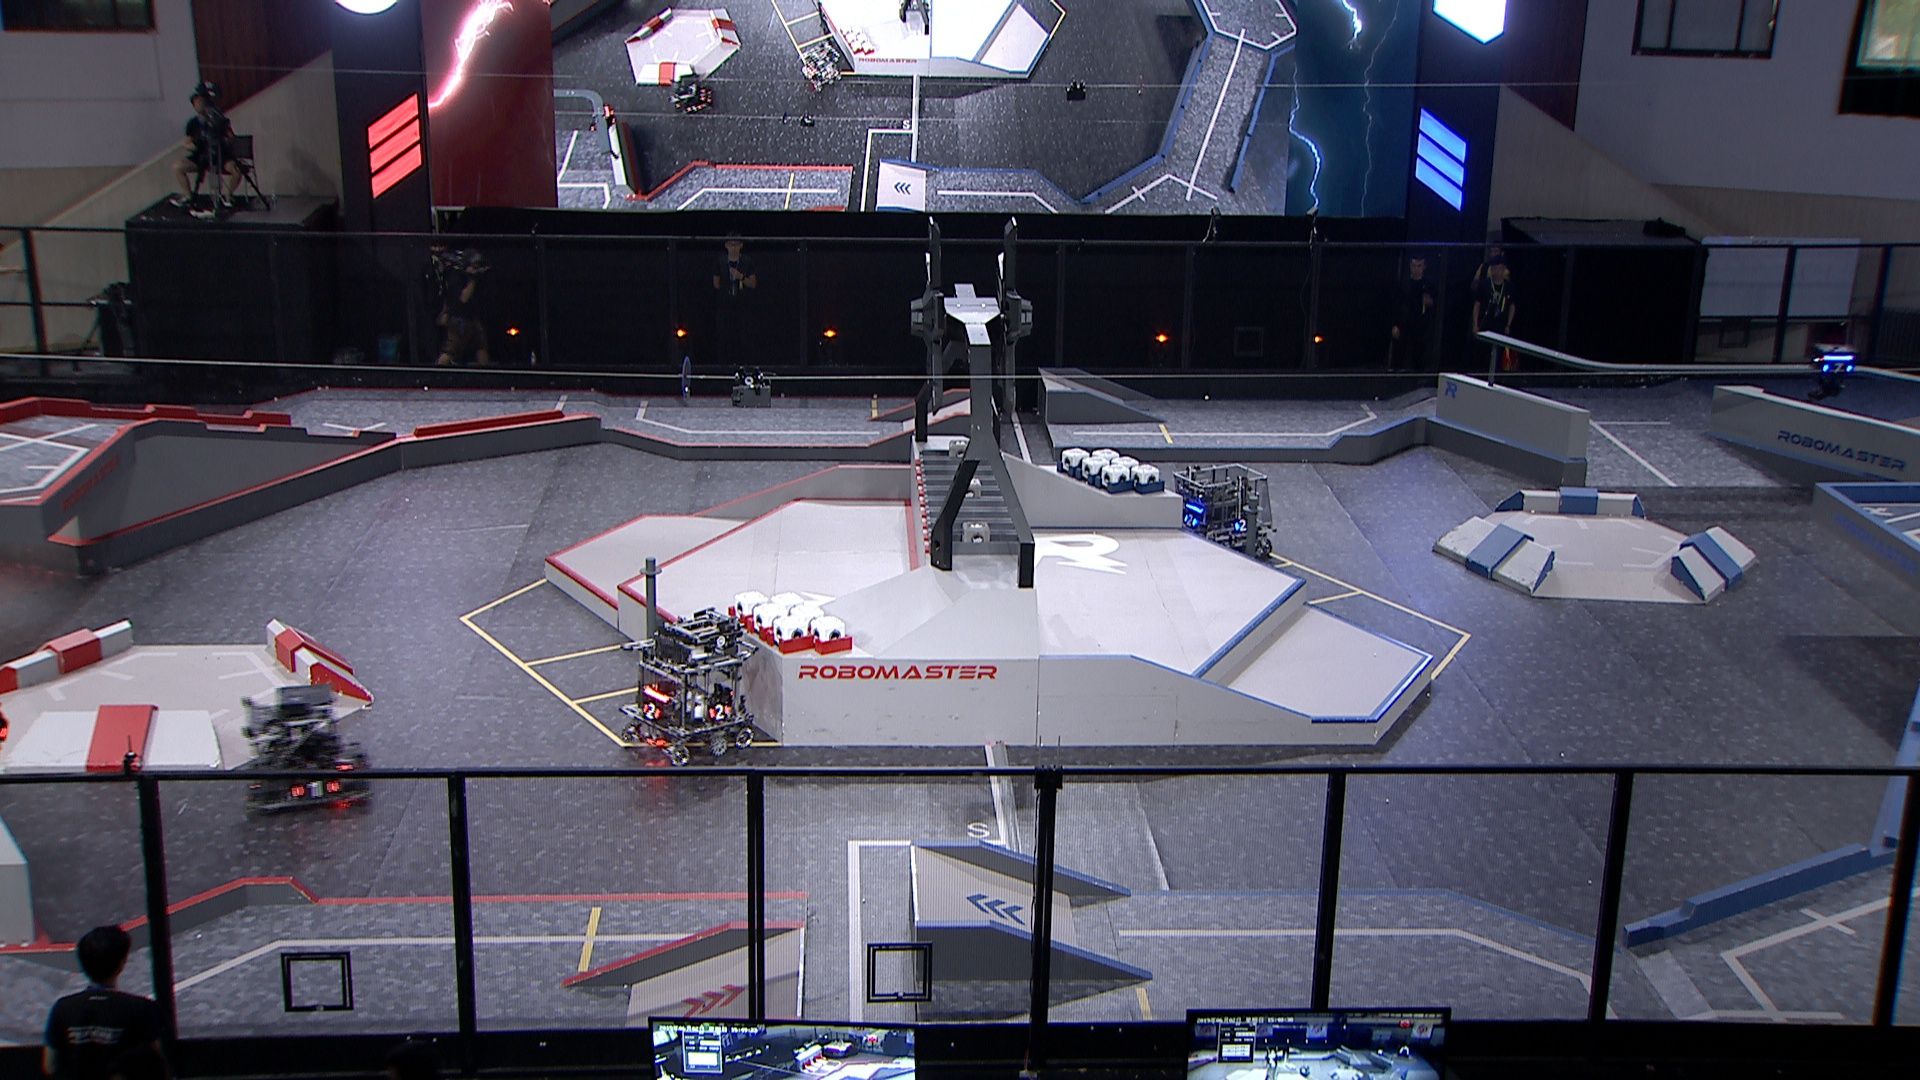armor: (287, 778, 338, 800), (1820, 357, 1855, 375), (704, 702, 732, 723), (330, 750, 356, 771), (641, 702, 661, 721), (1185, 512, 1201, 527), (1233, 516, 1247, 533)
car: (615, 611, 760, 769), (245, 683, 377, 820), (1167, 460, 1276, 564)
ignore: (796, 36, 844, 94), (666, 69, 713, 116), (585, 105, 617, 136)
watcher: (1807, 338, 1859, 404)
